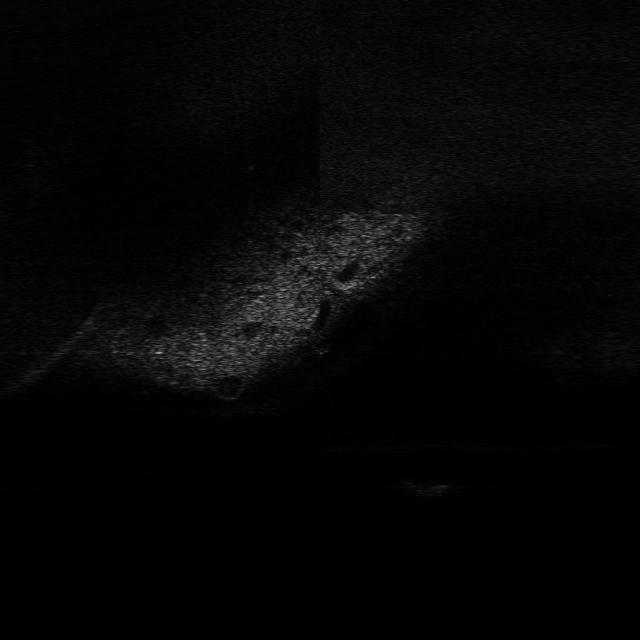ball: (306, 327, 336, 356)
cube: (397, 478, 461, 498)
